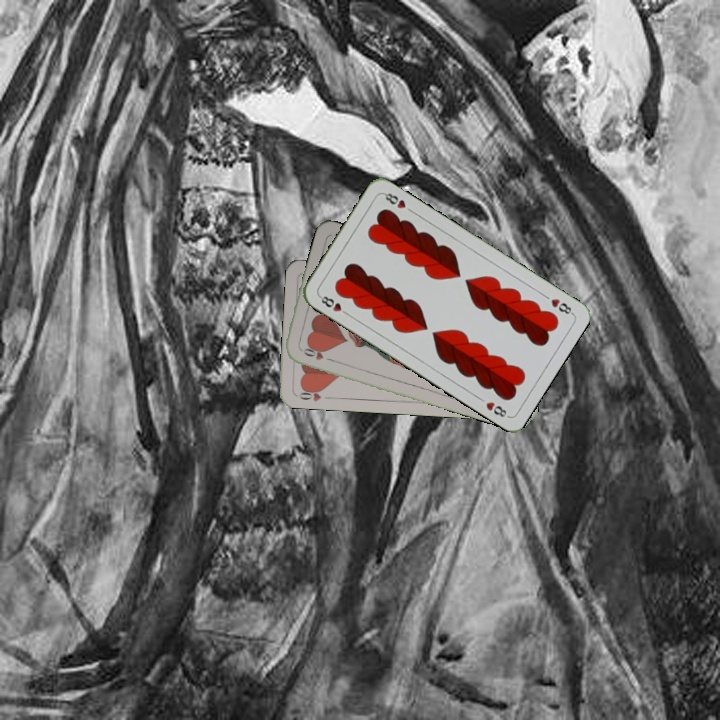H8: (315, 291, 352, 318), (547, 294, 576, 317)
HO: (293, 384, 334, 404), (296, 343, 335, 364)
